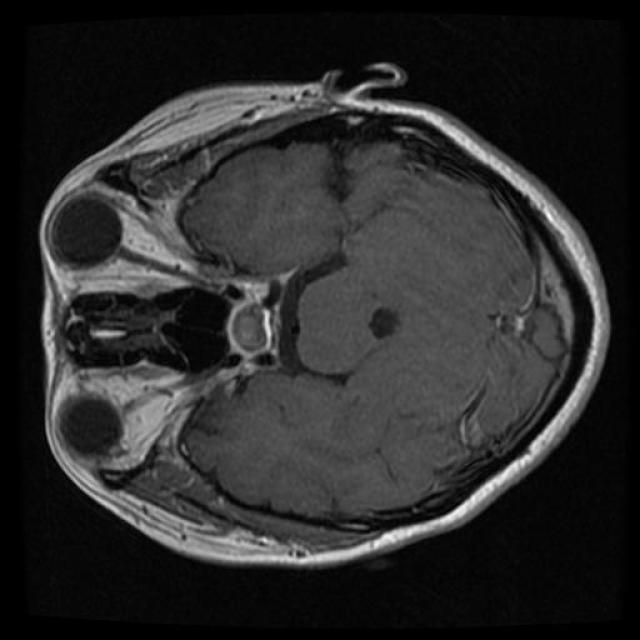Pituitary: (224, 268, 298, 373)
